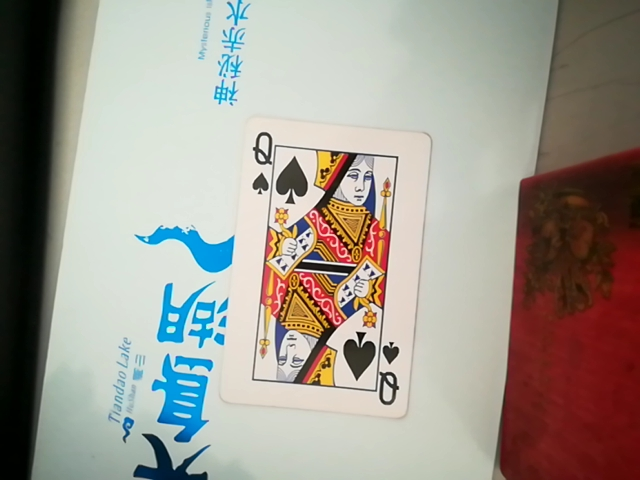ht q: (226, 124, 423, 428)
